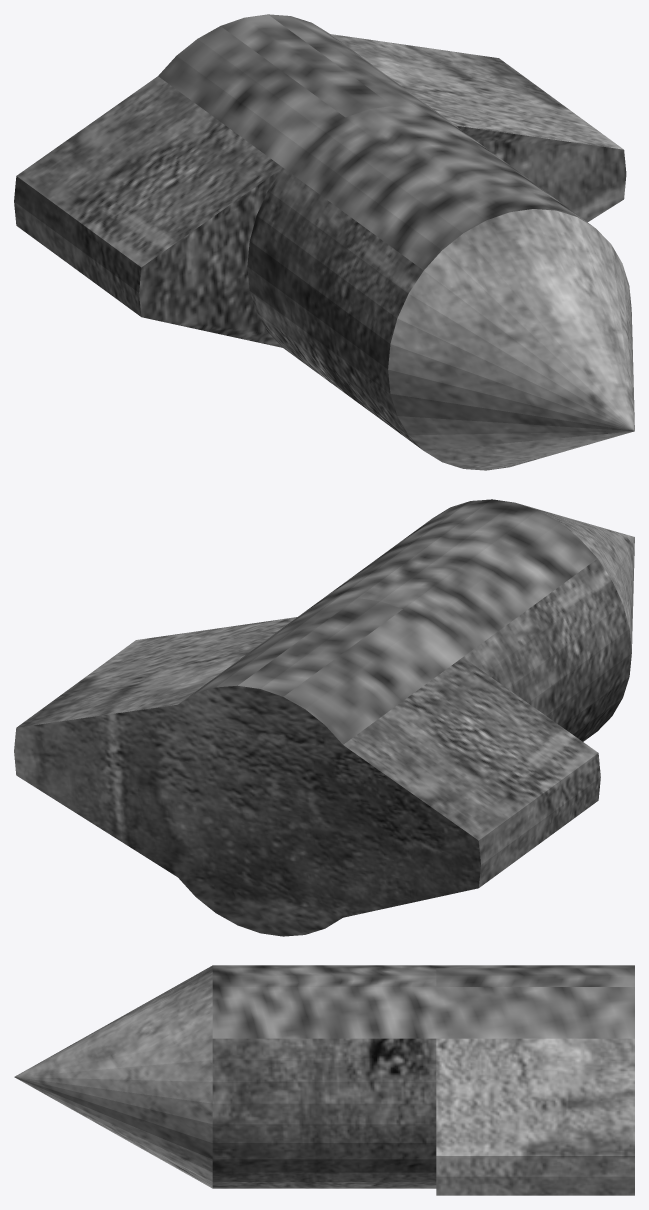
File: BulletMissile.obj
3 renders of one model, top to bottom at view 1: azimuth 30°, elevation 25°; view 2: azimuth 150°, elevation 25°; view 3: azimuth 270°, elevation 25°, orthographic. The views are drawn at different scales.
Visible parts, largest first — view 1: Cylinder.001; view 2: Cylinder.001; view 3: Cylinder.001.
Boxes of the visible parts, left/top/right/bottom form: Cylinder.001: left=14, top=14, right=634, bottom=470; Cylinder.001: left=14, top=499, right=634, bottom=936; Cylinder.001: left=14, top=965, right=634, bottom=1195.
Size of the model in its own units: 1.8 by 0.9 by 2.5.
